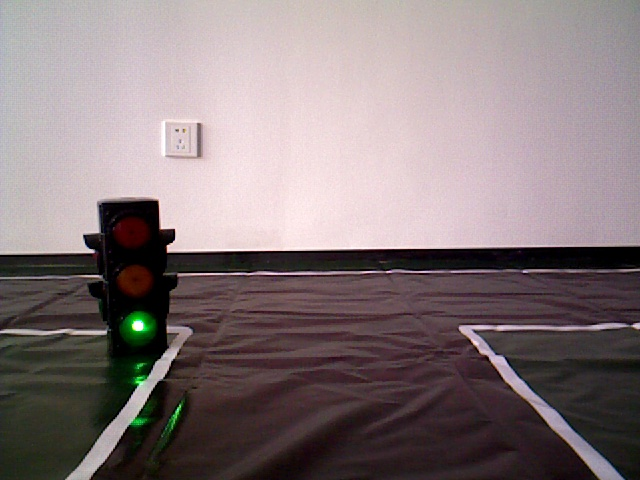green: (99, 203, 162, 344)
